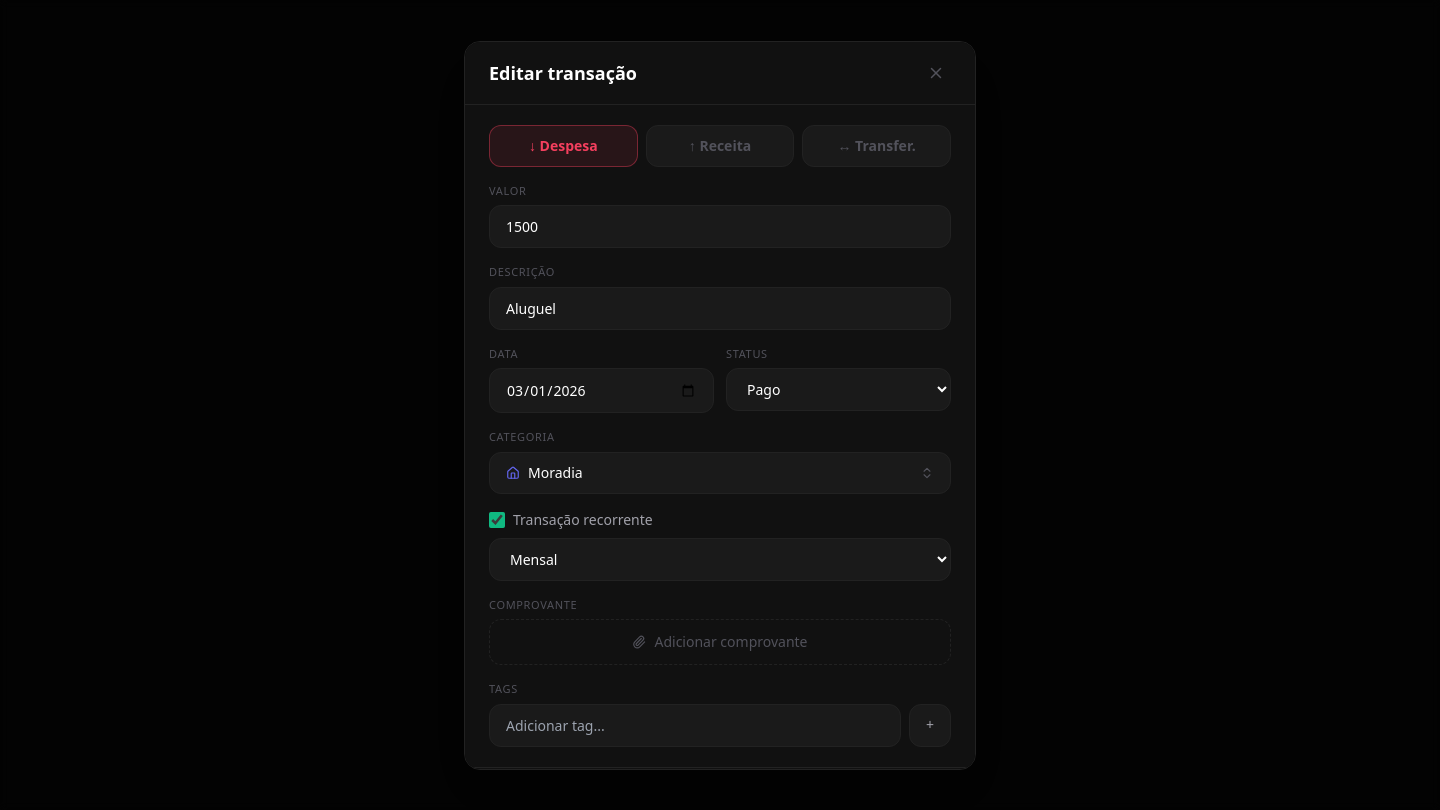
Test case: TransactionForm › deve exibir modal de propagação ao editar Description de transação recorrente
Replace the text in the field showing "Aluguel" with "Aluguel Novo" at (720, 308), box [489,286,951,330]
(page scrolled)
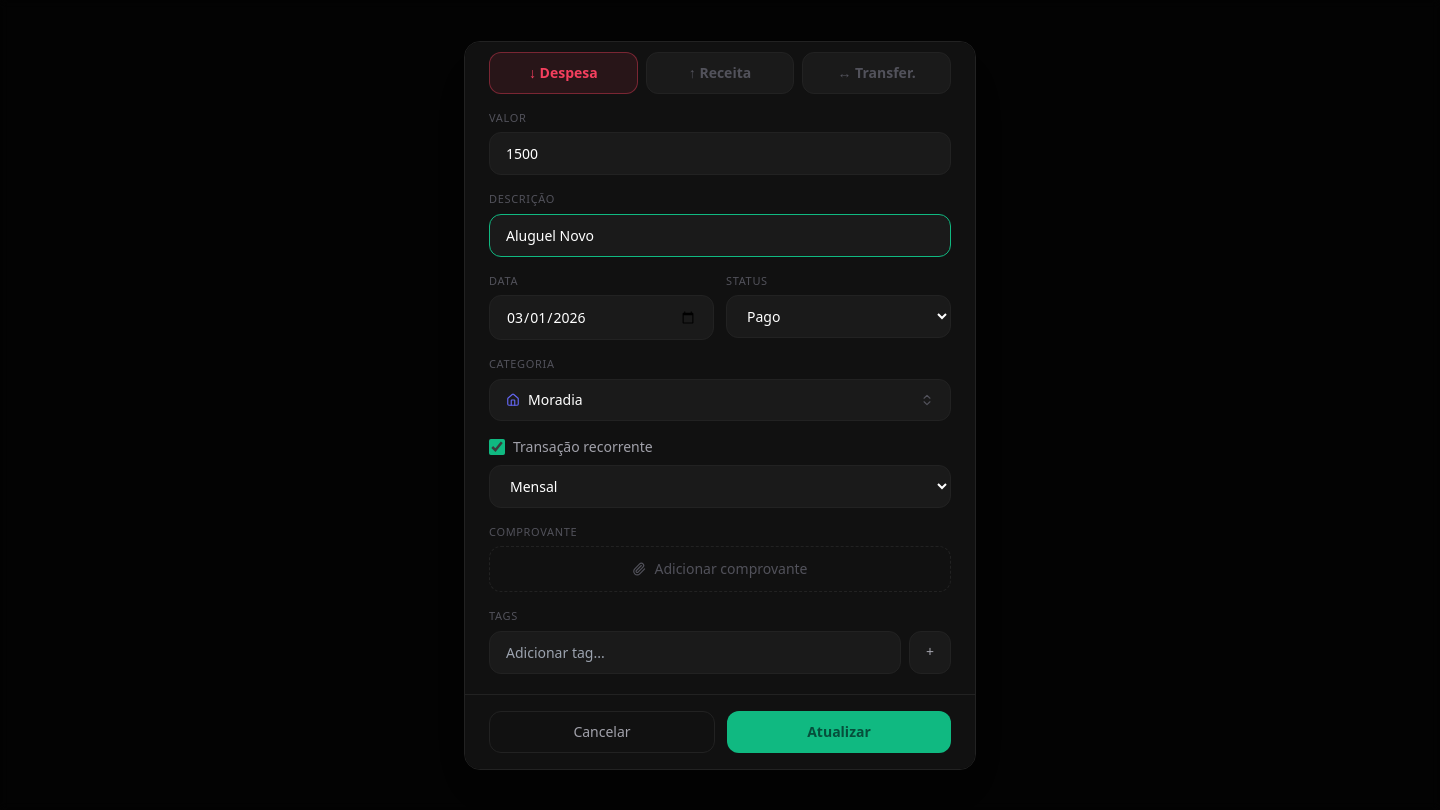
Click the button "Atualizar".
click(839, 732)  # box [727,710,951,752]
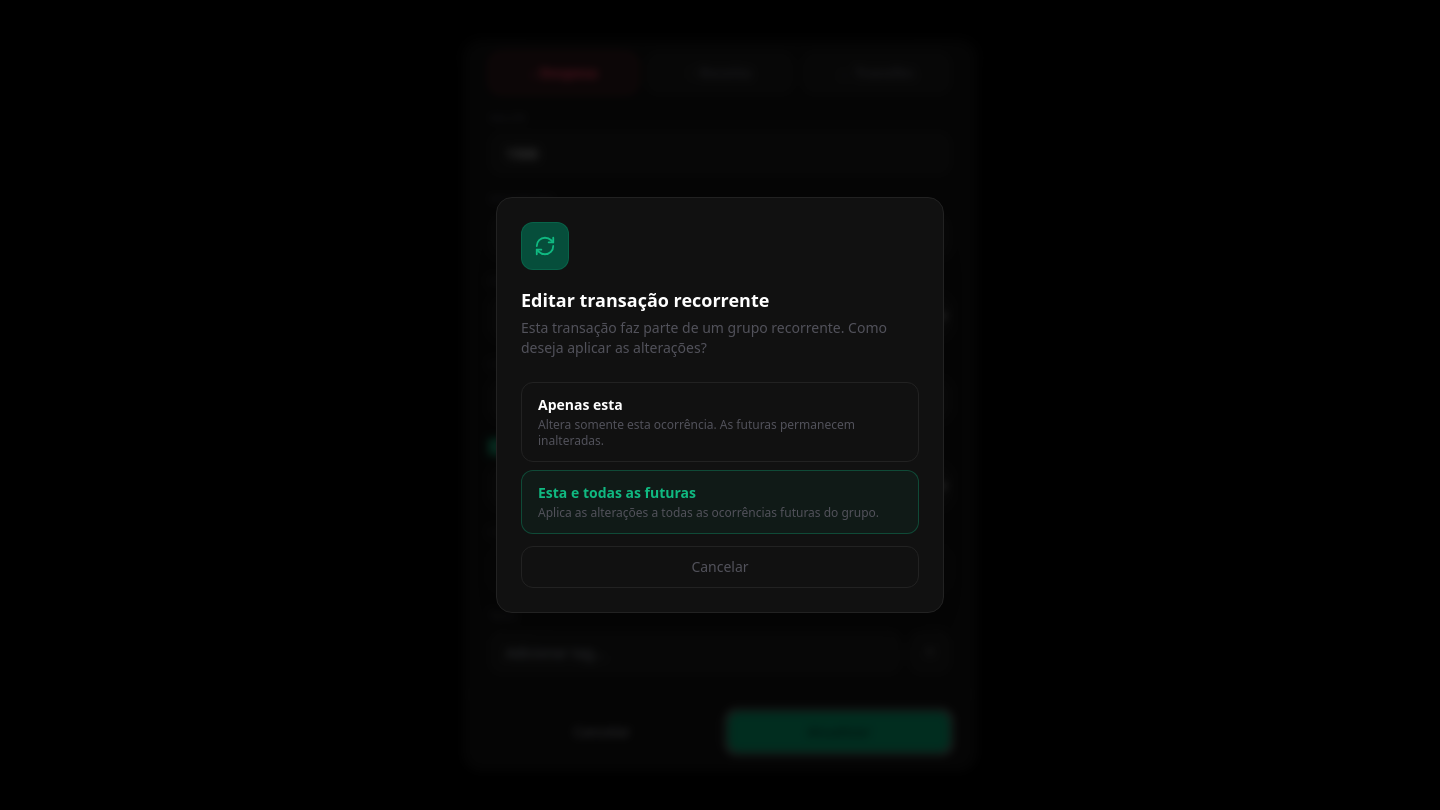
Check: the heading "Editar transação recorrente" is shown, box [521,288,769,312]
